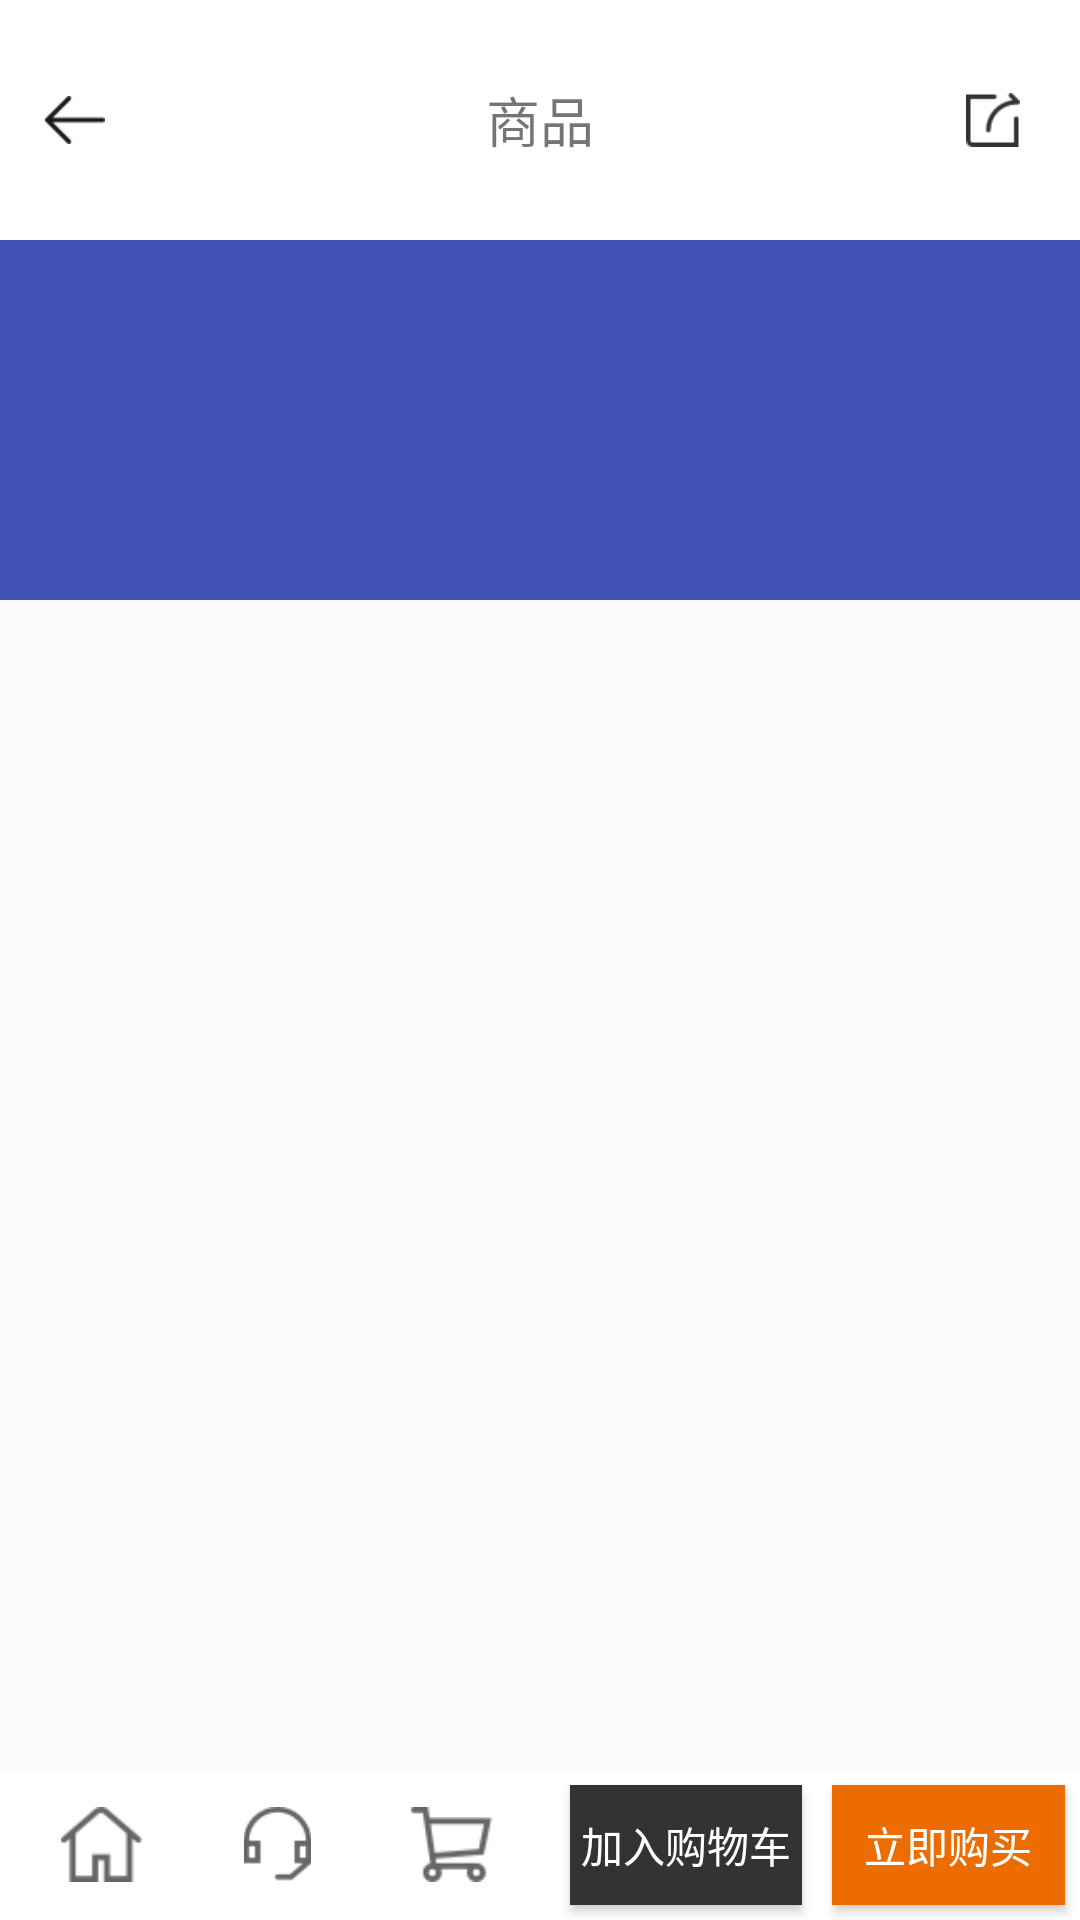

Where to tap for icons on this 1080 x 1920 app screen, as point (x, y):
home back arrow: point (75, 120)
home customer service: point (277, 1844)
home detail shopping cart: point (451, 1844)
home share: point (993, 120)
